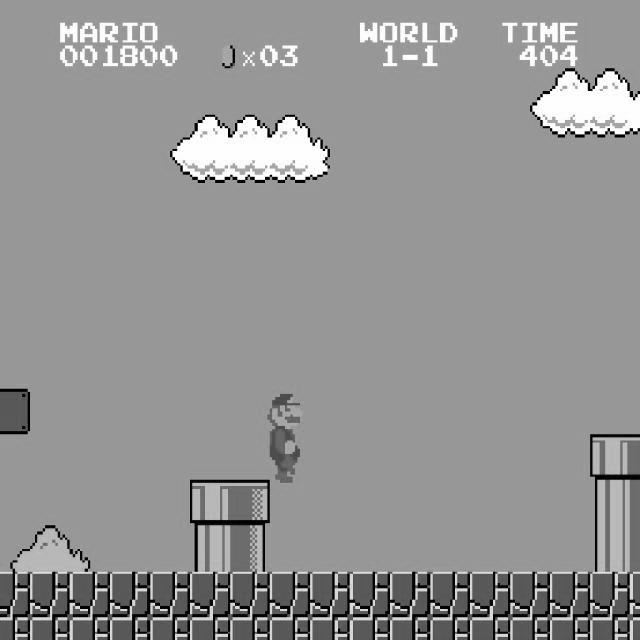0- big_mario: (262, 389, 305, 483)
14- pipe: (190, 526, 230, 572), (230, 526, 270, 572), (590, 480, 630, 526), (590, 526, 630, 572), (629, 525, 640, 571), (629, 480, 640, 525)
15- pipe_head: (190, 480, 230, 526), (230, 480, 270, 526), (590, 434, 630, 480), (629, 434, 640, 479)
17- undestructible_block: (30, 572, 70, 618), (70, 572, 110, 618), (110, 572, 150, 618), (150, 572, 190, 618), (190, 572, 230, 618), (230, 572, 270, 618), (270, 572, 310, 618), (310, 572, 350, 618), (350, 572, 390, 618), (390, 572, 430, 618), (430, 572, 470, 618), (470, 572, 510, 618), (510, 572, 550, 618), (550, 572, 590, 618), (590, 572, 630, 618), (0, 572, 30, 618), (30, 617, 70, 640), (70, 617, 110, 640), (110, 617, 150, 640), (150, 617, 190, 640), (190, 617, 230, 640), (230, 617, 270, 640), (270, 617, 310, 640), (310, 617, 350, 640), (350, 617, 390, 640), (390, 617, 430, 640), (430, 617, 470, 640), (470, 617, 510, 640), (510, 617, 550, 640), (550, 617, 590, 640), (590, 617, 630, 640), (0, 617, 30, 640), (629, 571, 640, 617), (629, 617, 640, 639)
3- empty_block: (0, 388, 30, 434)
